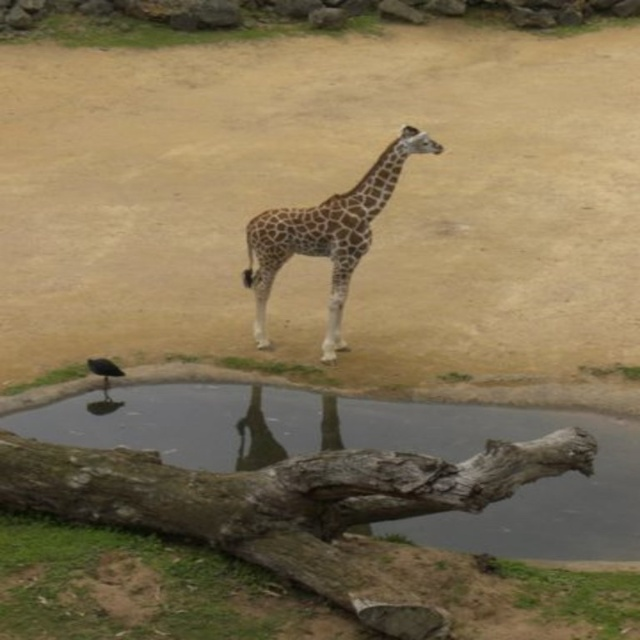Giraffe: (244, 124, 444, 365)
